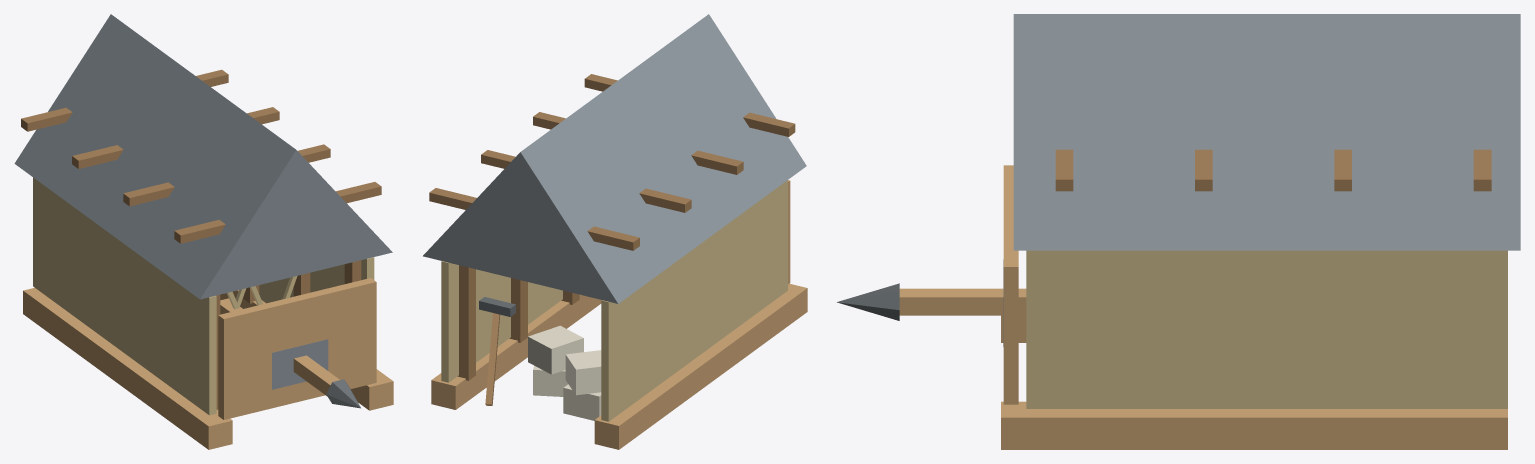
The model's file is bore-shelter.glb.
3 renders of one model, left to right at view 1: azimuth 30°, elevation 25°; view 2: azimuth 150°, elevation 25°; view 3: azimuth 270°, elevation 25°, orthographic. The views are drawn at different scales.
Parts seen in each view (by area): view 1: bore-shelter; view 2: bore-shelter; view 3: bore-shelter.
Boxes of the visible parts, x1,y1,x2,y2 form: bore-shelter: (14, 14, 393, 449); bore-shelter: (423, 14, 807, 449); bore-shelter: (837, 14, 1520, 449).
Size of the model in its own units: 2.5 by 3.26 by 5.4.
